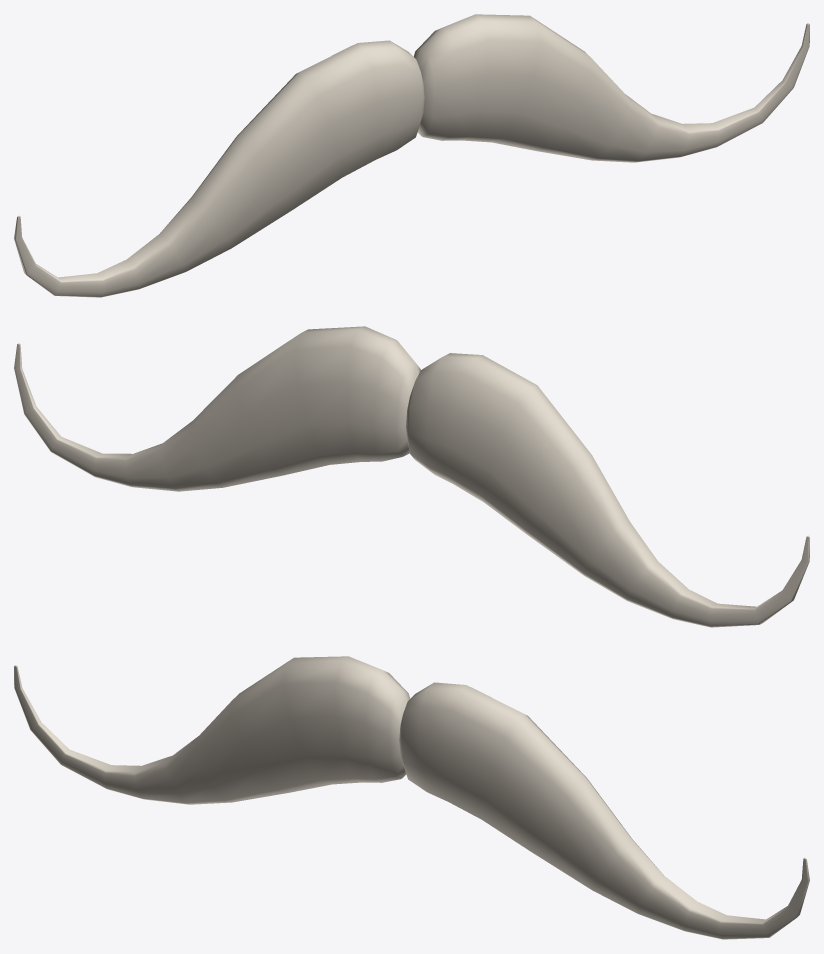
Rendered from Beard_02_07.fbx.
The picture shows the model from 3 angles, top to bottom: view 1: azimuth 30°, elevation 25°; view 2: azimuth 150°, elevation 25°; view 3: azimuth 330°, elevation 25°; orthographic projection.
Visible parts, largest first — view 1: Beard_02_07; view 2: Beard_02_07; view 3: Beard_02_07.
Part boxes in pixels (x1,y1,x2,y2): Beard_02_07: (14,14,809,297); Beard_02_07: (14,326,809,627); Beard_02_07: (14,656,809,939).
Bounding box in the file's own units: 29.8 × 7.17 × 2.32.
